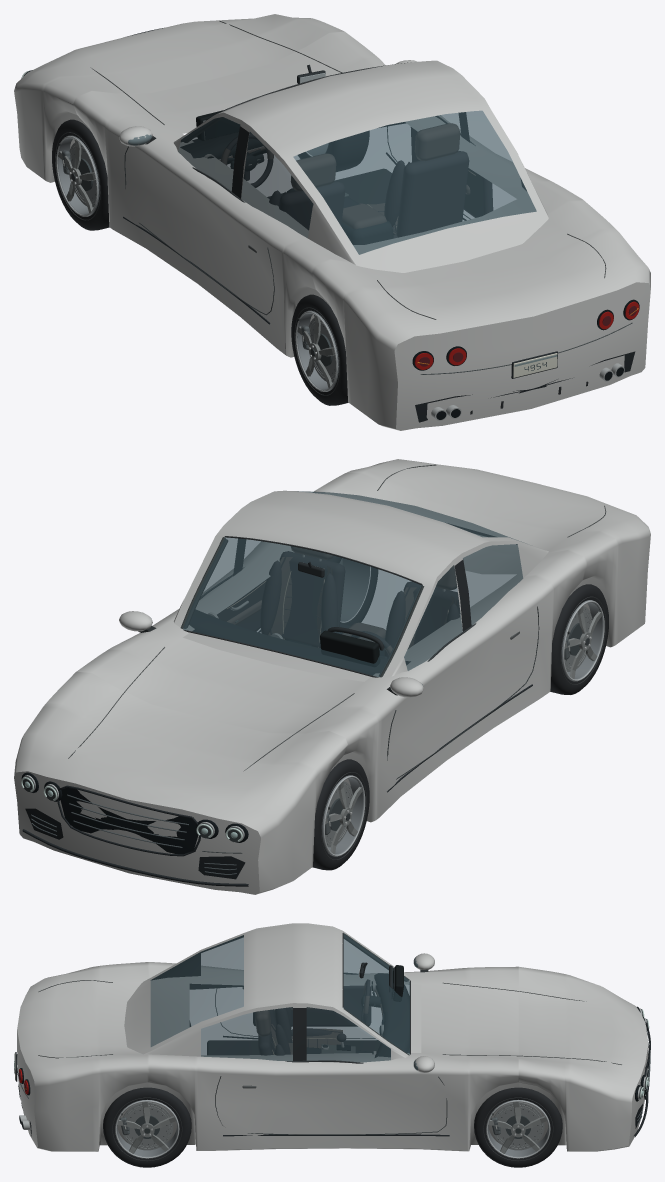
File: morrow-440.glb
The picture shows the model from 3 angles, top to bottom: view 1: azimuth 30°, elevation 25°; view 2: azimuth 150°, elevation 25°; view 3: azimuth 270°, elevation 25°; orthographic projection. The views are drawn at different scales.
Parts seen in each view (by area): view 1: paint, glass, wheelSurface (×3), SeatUpholstery, trim, CabinMouldings, CabinLeather, SteeringLeather, brake; view 2: paint, glass, trim, wheelSurface (×3), SeatUpholstery, CabinMouldings, CabinLeather; view 3: paint, glass, wheelSurface (×2), trim, CabinMouldings, SeatUpholstery, CabinLeather, CockpitHardware.
Boxes of the visible parts, x1,y1,x2,y2 form: paint: (14,14,650,430); glass: (128,110,536,254); wheelSurface (×3): (52,119,369,405); SeatUpholstery: (269,123,468,238); trim: (23,20,639,422); CabinMouldings: (180,64,405,244); CabinLeather: (220,127,492,228); SteeringLeather: (221,133,273,187); brake: (414,301,639,369); paint: (14,459,650,894); glass: (151,491,523,684); trim: (21,464,606,886); wheelSurface (×3): (312,556,608,870); SeatUpholstery: (260,546,460,657); CabinMouldings: (189,562,410,675); CabinLeather: (217,579,385,647); paint: (17,923,648,1151); glass: (150,934,417,1070); wheelSurface (×2): (103,1087,562,1167); trim: (14,932,650,1136); CabinMouldings: (207,962,409,1057); SeatUpholstery: (255,1007,342,1055); CabinLeather: (253,986,382,1054); CockpitHardware: (321,967,394,1054).
Bounding box in the file's own units: 2.15 × 1.44 × 5.06.
